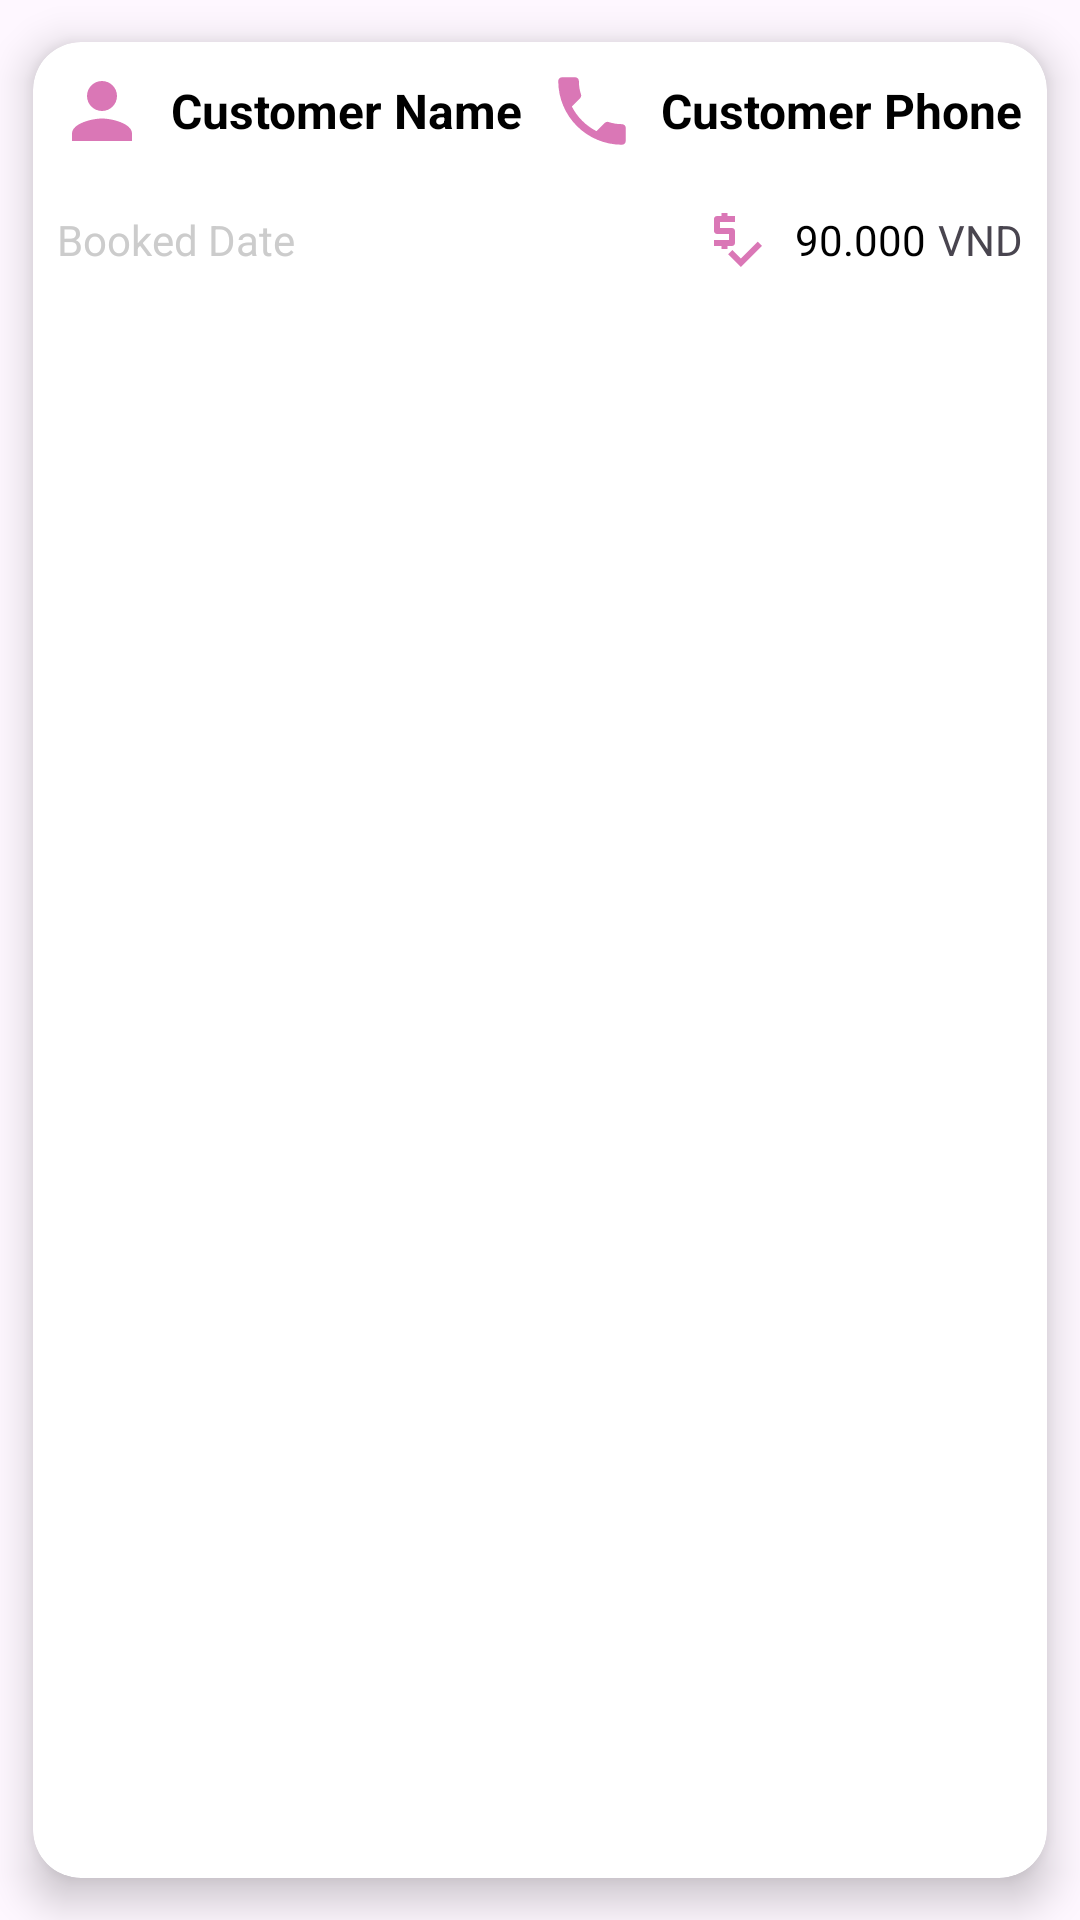

Icon click points for this 1080x1920 phone screenshot, format [x,y]:
person: [102,111]
price check: [738,240]
